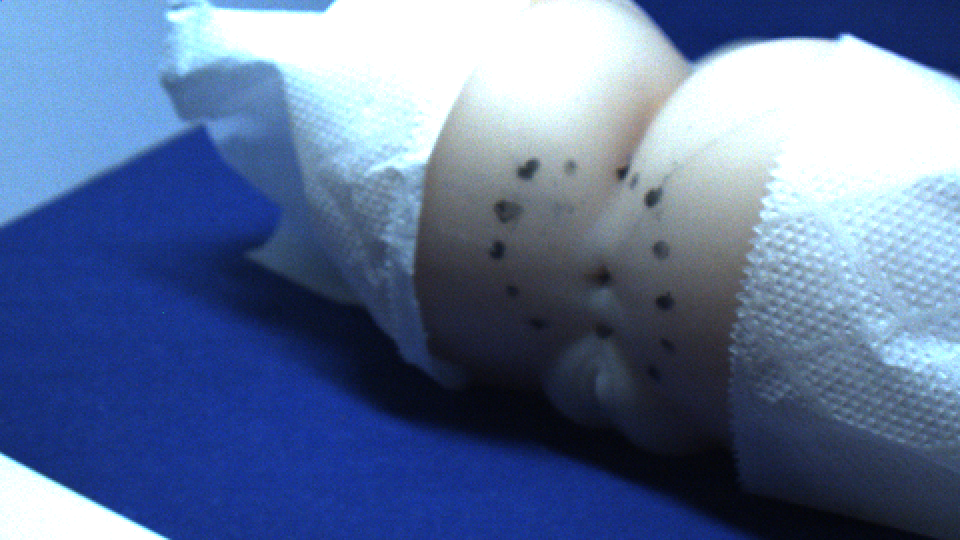asarp_marker: (494, 195, 530, 229), (514, 152, 543, 184), (487, 238, 513, 263), (653, 289, 677, 315), (649, 240, 677, 262), (648, 364, 672, 389), (642, 182, 662, 211), (594, 321, 619, 343), (525, 315, 553, 334), (655, 339, 683, 357), (613, 162, 637, 179), (564, 159, 582, 180), (503, 281, 522, 298)
